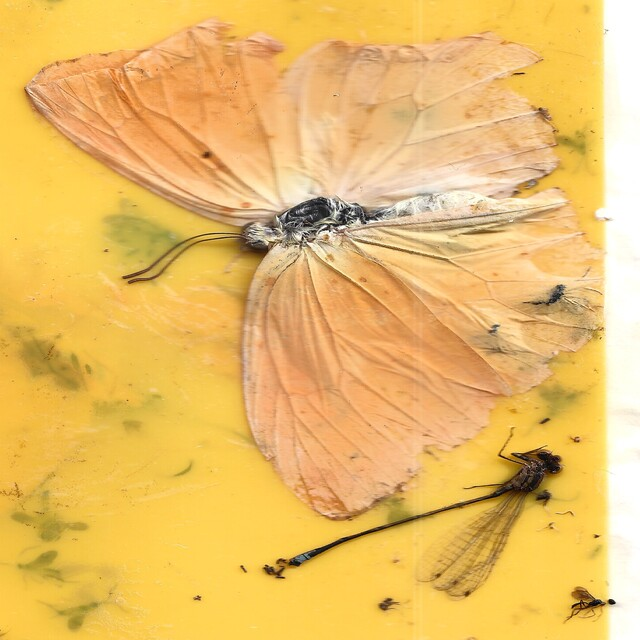Hymenoptera: (563, 587, 616, 623)
Lepidoptera: (24, 17, 604, 521)
Odonata: (286, 425, 565, 601)
